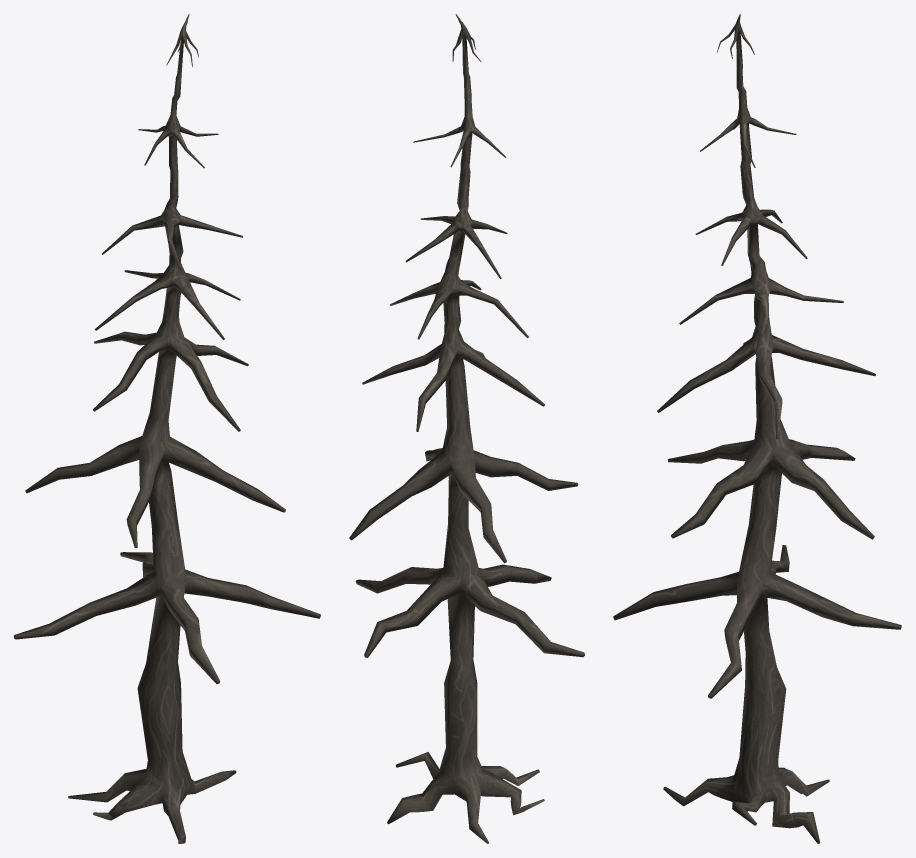
The model's file is shared_pine_tree_dry_01.fbx.
3 views of the same model, side by side, from view 1: azimuth 30°, elevation 25°; view 2: azimuth 150°, elevation 25°; view 3: azimuth 270°, elevation 25° (orthographic). The views are drawn at different scales.
Parts seen in each view (by area): view 1: shared_pine_tree_dry_01; view 2: shared_pine_tree_dry_01; view 3: shared_pine_tree_dry_01.
Part boxes in pixels (left/top/right/bottom): shared_pine_tree_dry_01: left=14, top=14, right=320, bottom=843; shared_pine_tree_dry_01: left=349, top=14, right=584, bottom=843; shared_pine_tree_dry_01: left=613, top=14, right=901, bottom=843.
Bounding box in the file's own units: 7.94 × 22.72 × 7.29.
